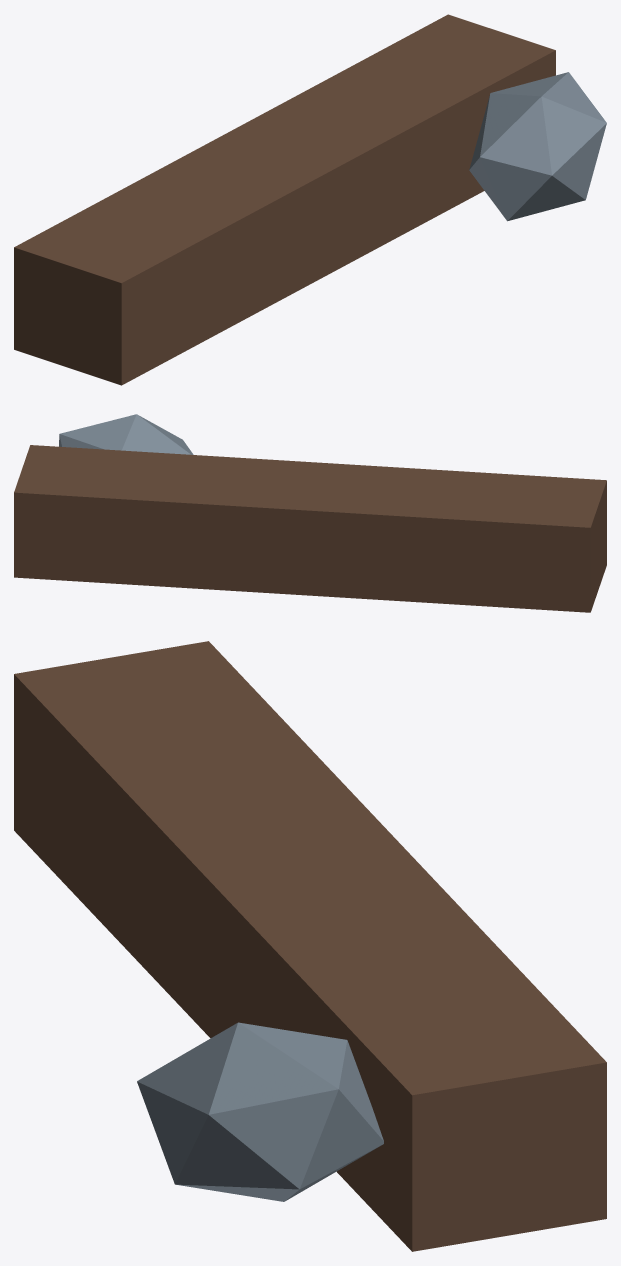
The model's file is INT_A_FallenBeam_00.glb.
The picture shows the model from 3 angles, top to bottom: view 1: azimuth 30°, elevation 25°; view 2: azimuth 150°, elevation 25°; view 3: azimuth 270°, elevation 25°; orthographic projection. The views are drawn at different scales.
Visible parts, largest first — view 1: INT_A_FallenBeam_00; view 2: INT_A_FallenBeam_00; view 3: INT_A_FallenBeam_00.
Boxes of the visible parts, x1,y1,x2,y2 form: INT_A_FallenBeam_00: (14,14,606,385); INT_A_FallenBeam_00: (14,414,606,612); INT_A_FallenBeam_00: (14,641,606,1251).
Size of the model in its own units: 1.75 by 0.3152 by 0.9611.
